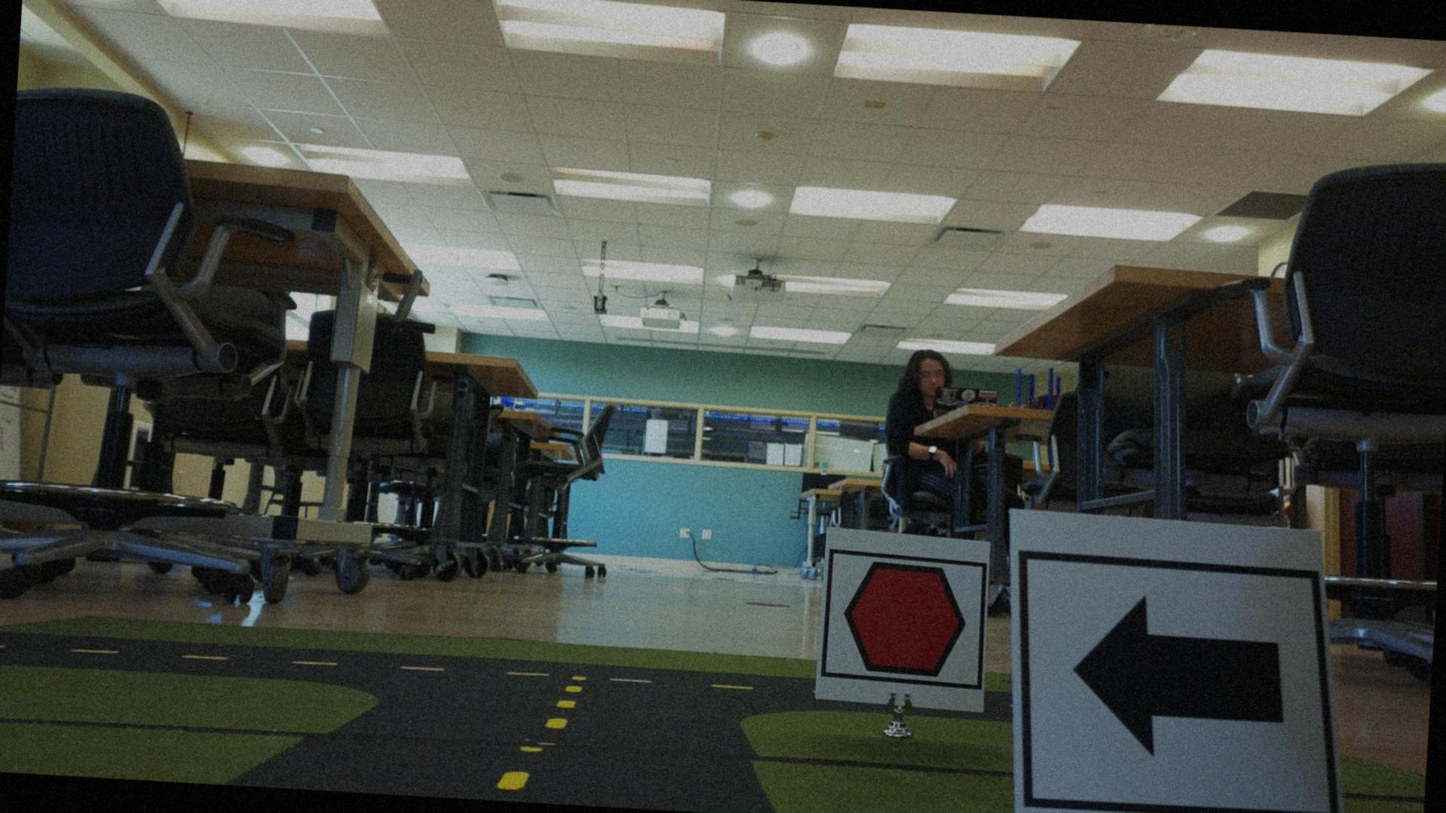stop: (818, 551, 984, 688)
turnright: (1036, 560, 1319, 812)
yellowline: (497, 678, 583, 795)
